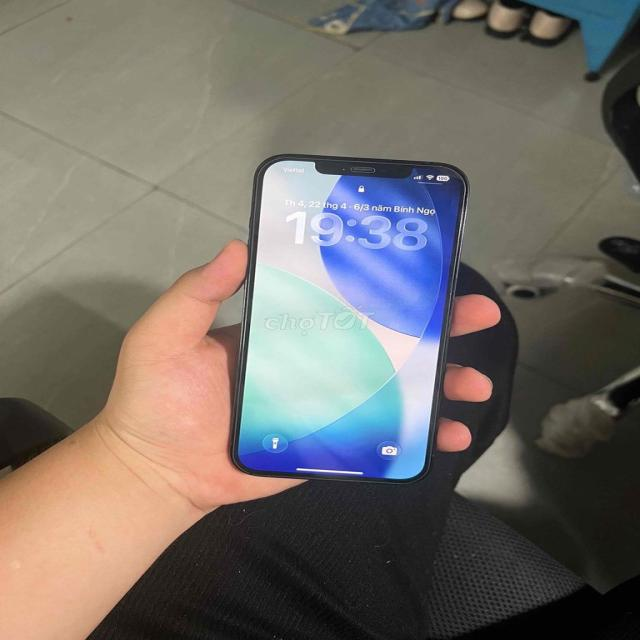gen_12_13: (238, 153, 472, 500)
